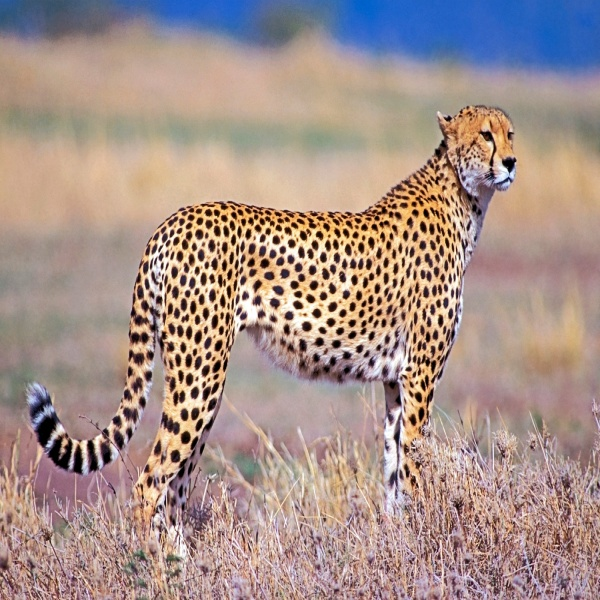Cheetah: (23, 99, 522, 559)
